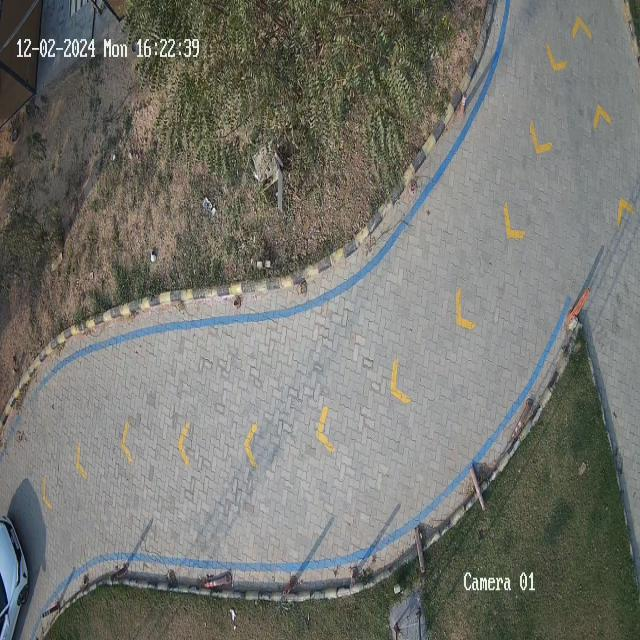car: (0, 515, 29, 639)
